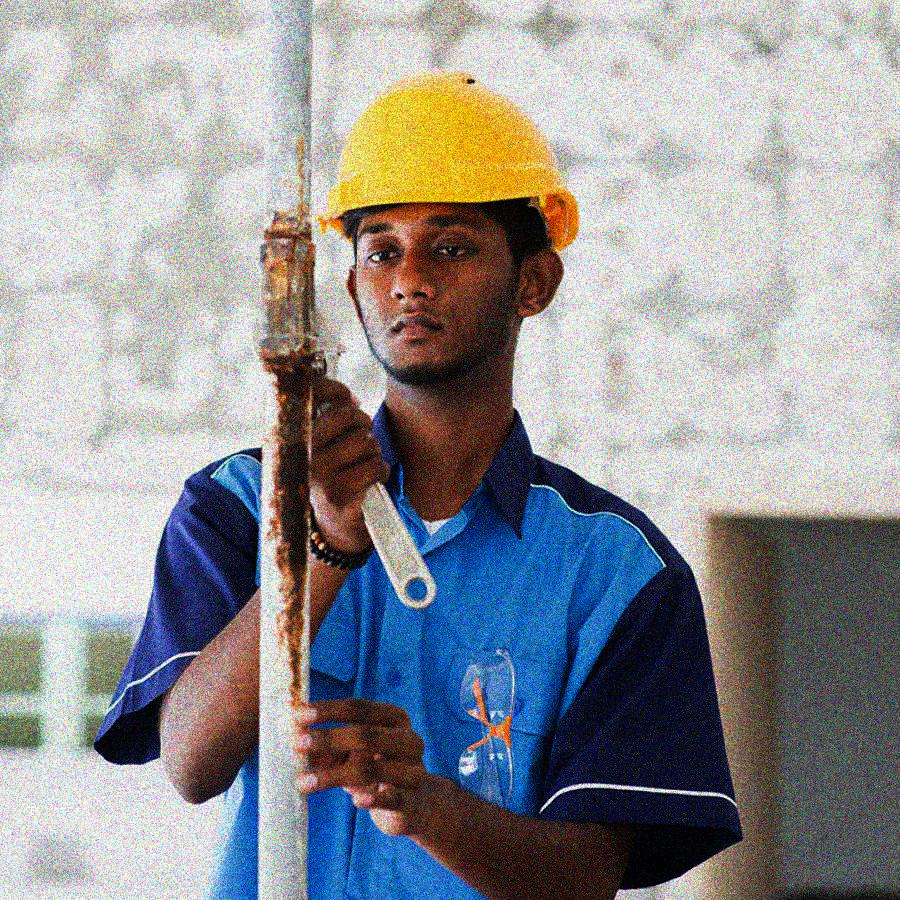helmet: (309, 69, 578, 380)
